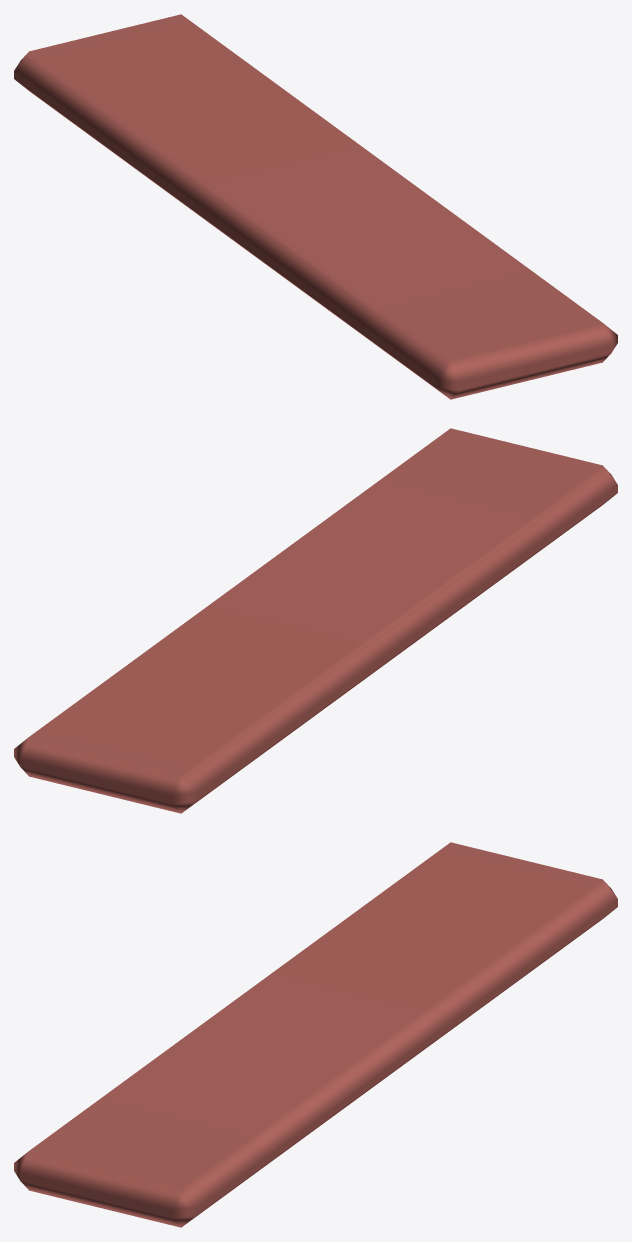
File: Bookmark.glb
3 views of the same model, one above another, from view 1: azimuth 30°, elevation 25°; view 2: azimuth 150°, elevation 25°; view 3: azimuth 330°, elevation 25° (orthographic).
Visible parts, largest first — view 1: Bookmark; view 2: Bookmark; view 3: Bookmark.
Part boxes in pixels (box(x1,y1,x2,y2)): Bookmark: box(14, 14, 617, 399); Bookmark: box(14, 428, 617, 813); Bookmark: box(14, 842, 617, 1227).
Bounding box in the file's own units: 0.024 × 0.005 × 0.1.
Materials: 1 (1 with a texture image).
